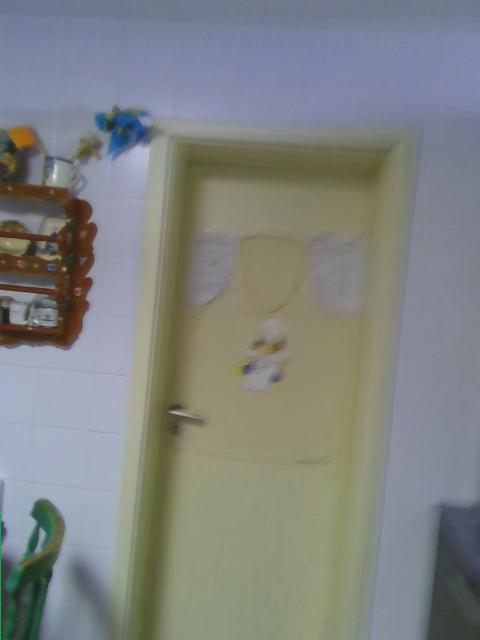closed_door: (110, 123, 421, 638)
